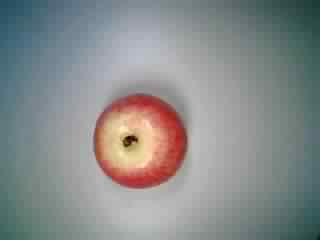apple: (89, 91, 194, 193)
